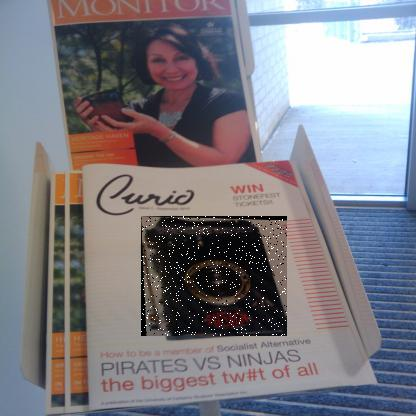Camera: (142, 217, 289, 338)
